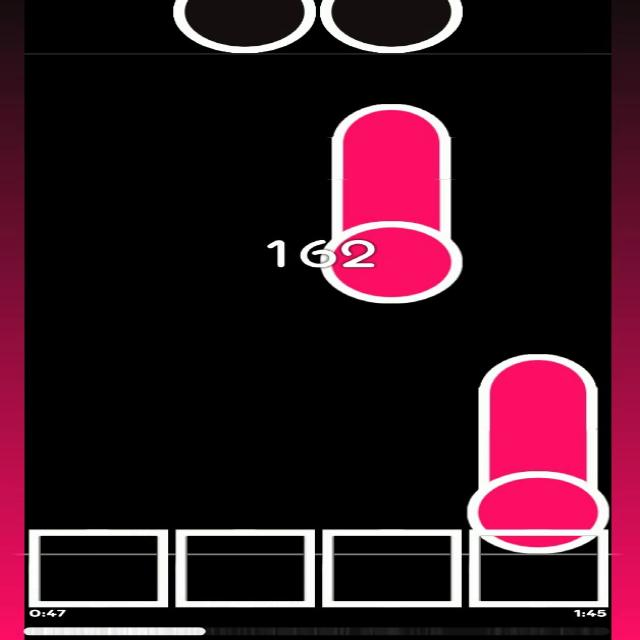end_hold: (326, 96, 459, 148), (474, 345, 599, 396)
note: (168, 0, 318, 53), (321, 0, 461, 56)
start_hold: (321, 193, 466, 305), (464, 444, 609, 556)
